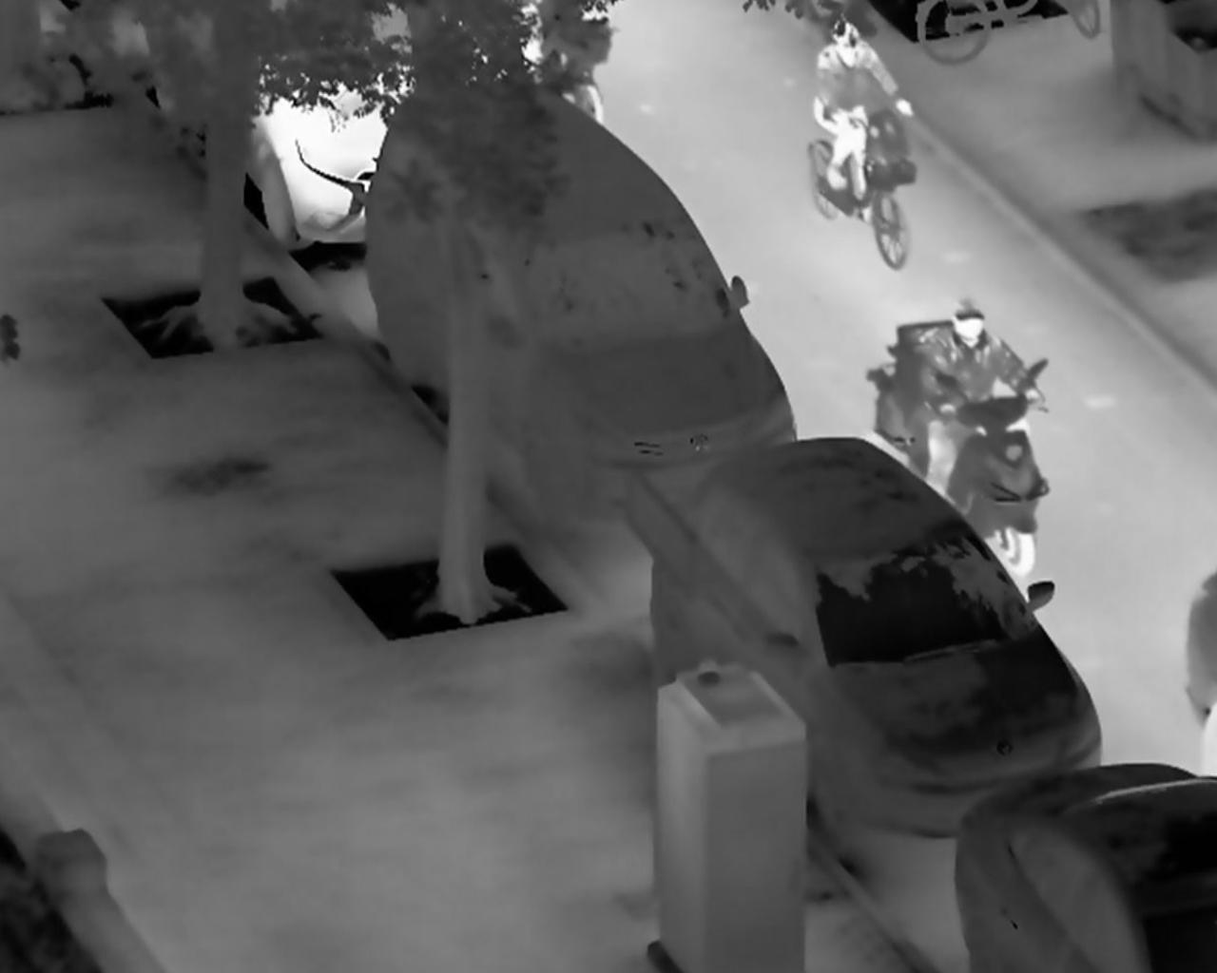person: (918, 293, 1048, 499), (809, 13, 914, 205)
